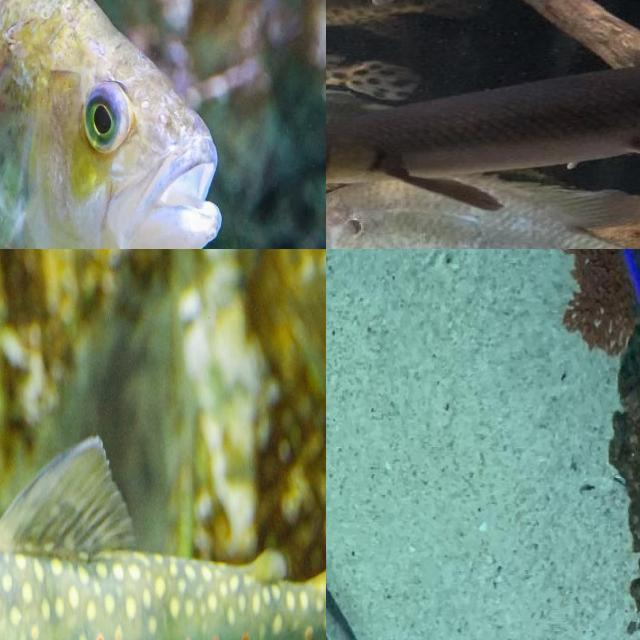fish: (0, 249, 227, 640), (0, 0, 326, 249), (326, 249, 399, 640)
